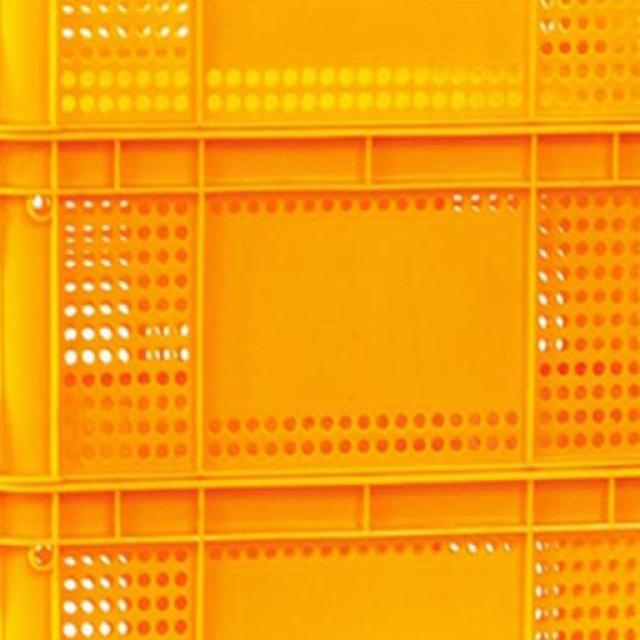basket: (3, 3, 640, 639)
